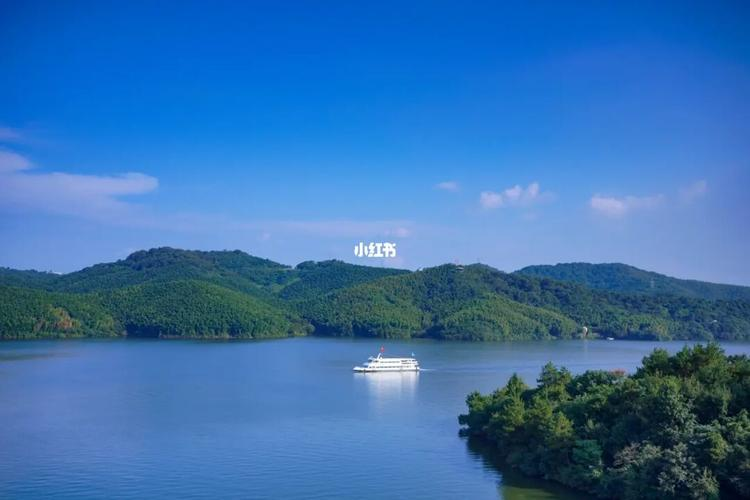sea_river: (22, 347, 556, 492)
sky_cloud: (0, 56, 750, 242)
